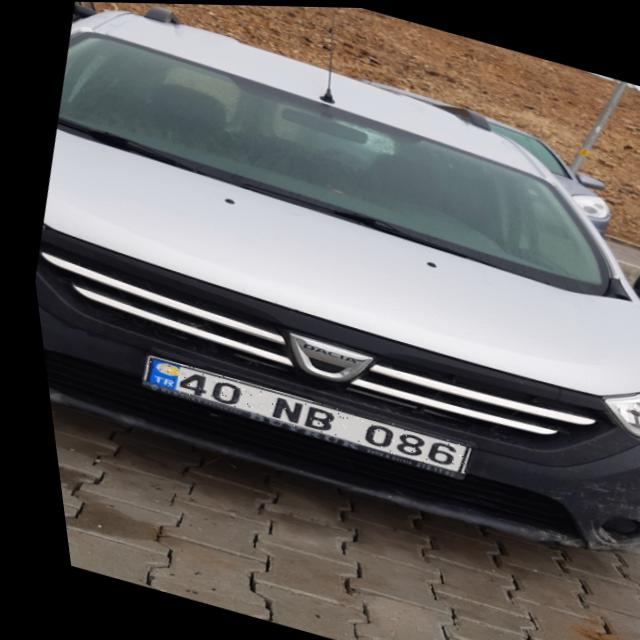license_plate: (128, 353, 462, 473)
